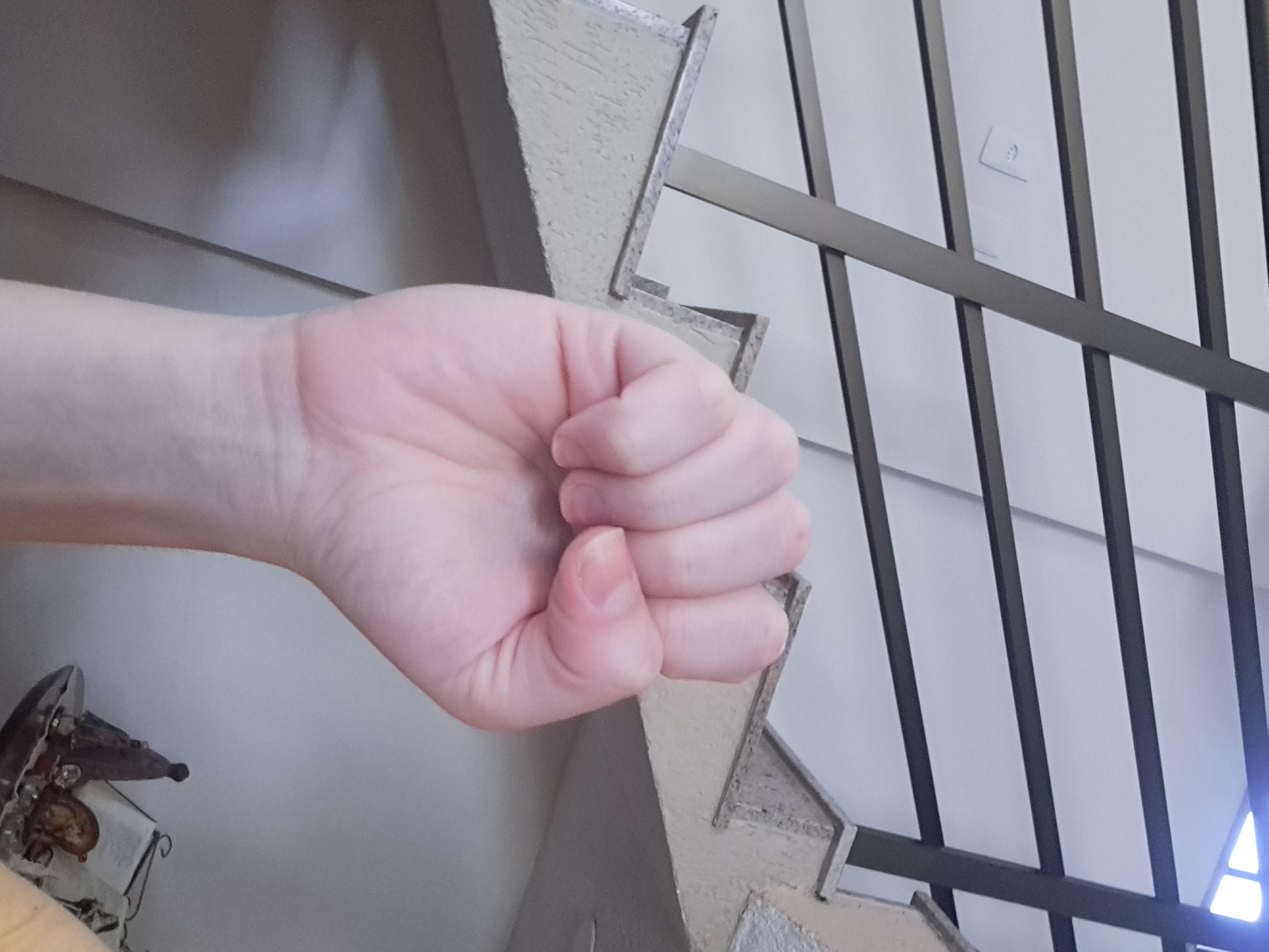S: (352, 338, 1000, 741)
